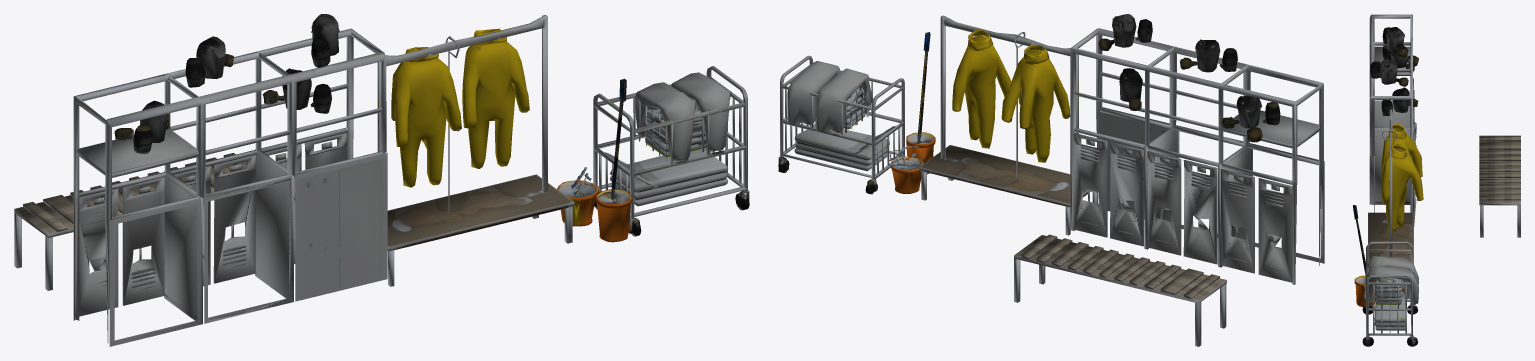
Rendered from locker+room.fbx.
3 views of the same model, side by side, from view 1: azimuth 30°, elevation 25°; view 2: azimuth 150°, elevation 25°; view 3: azimuth 270°, elevation 25° (orthographic). The views are drawn at different scales.
Visible parts, largest first — view 1: meshes[0]; view 2: meshes[0]; view 3: meshes[0].
Part boxes in pixels (x1=…): meshes[0]: x1=14, y1=14, x2=749, y2=346; meshes[0]: x1=778, y1=14, x2=1324, y2=346; meshes[0]: x1=1353, y1=14, x2=1520, y2=346.
Bounding box in the file's own units: 0.998 × 0.4199 × 0.377.
